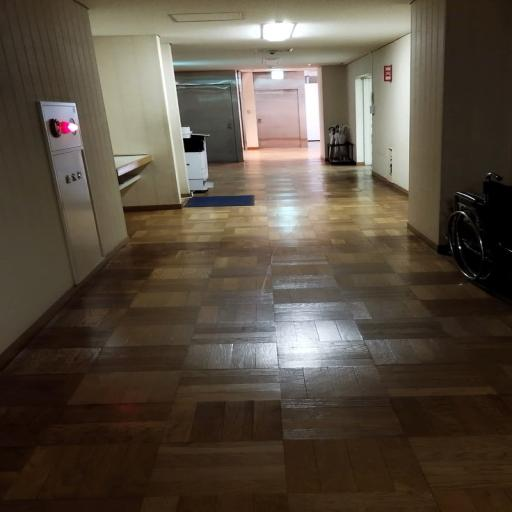car: (6, 0, 512, 512)
child: (254, 89, 300, 148)
